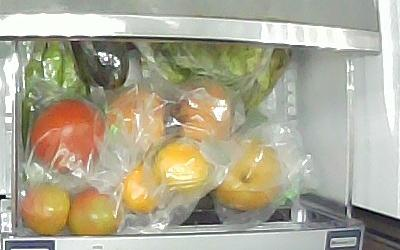peach_vinyl: (107, 91, 168, 148), (174, 84, 231, 142)
pear_vinyl: (214, 138, 283, 213)
tangerine_vinyl: (152, 141, 209, 192), (123, 167, 158, 213)
tomato_vinyl: (32, 99, 103, 173), (69, 184, 122, 238), (23, 180, 70, 235)
